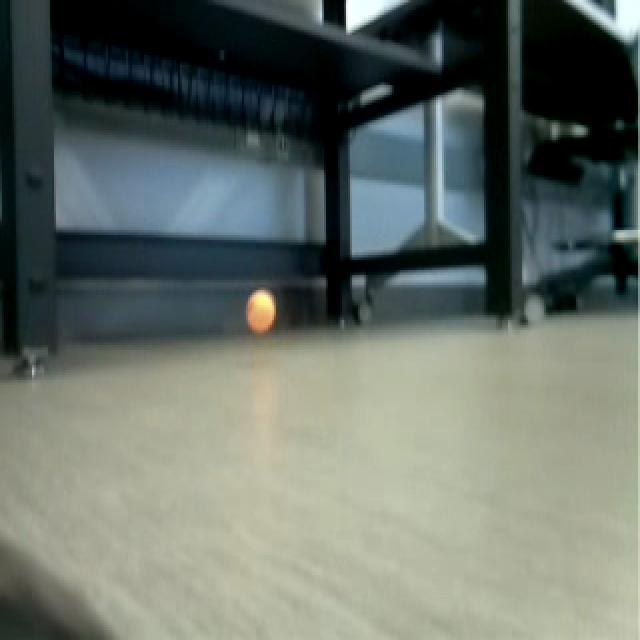oball: (242, 282, 277, 342)
